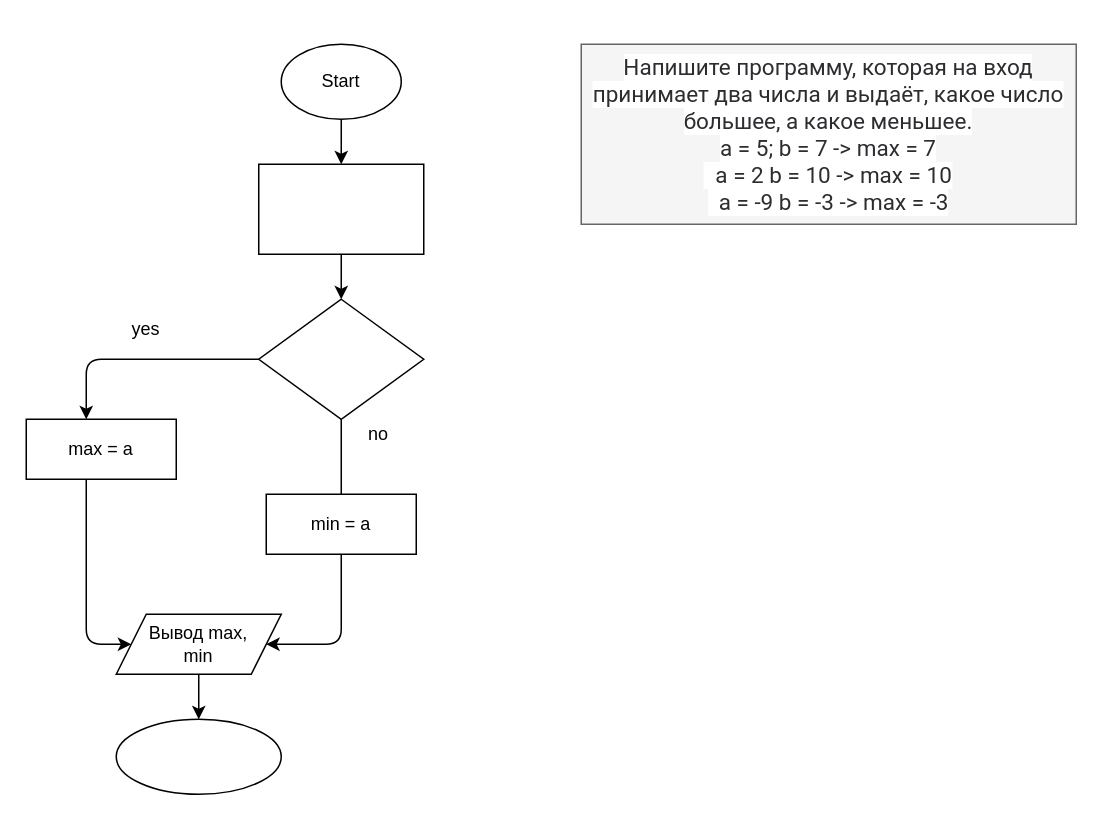
The diagram is 1103 pixels wide and 821 high, and some of its shapes have lost their labels. The centre of each missing label's shape, as x and y in pixels:
a -> b: [340,358]
a, b max =b min = b: [340,208]
Stop: [198,756]
